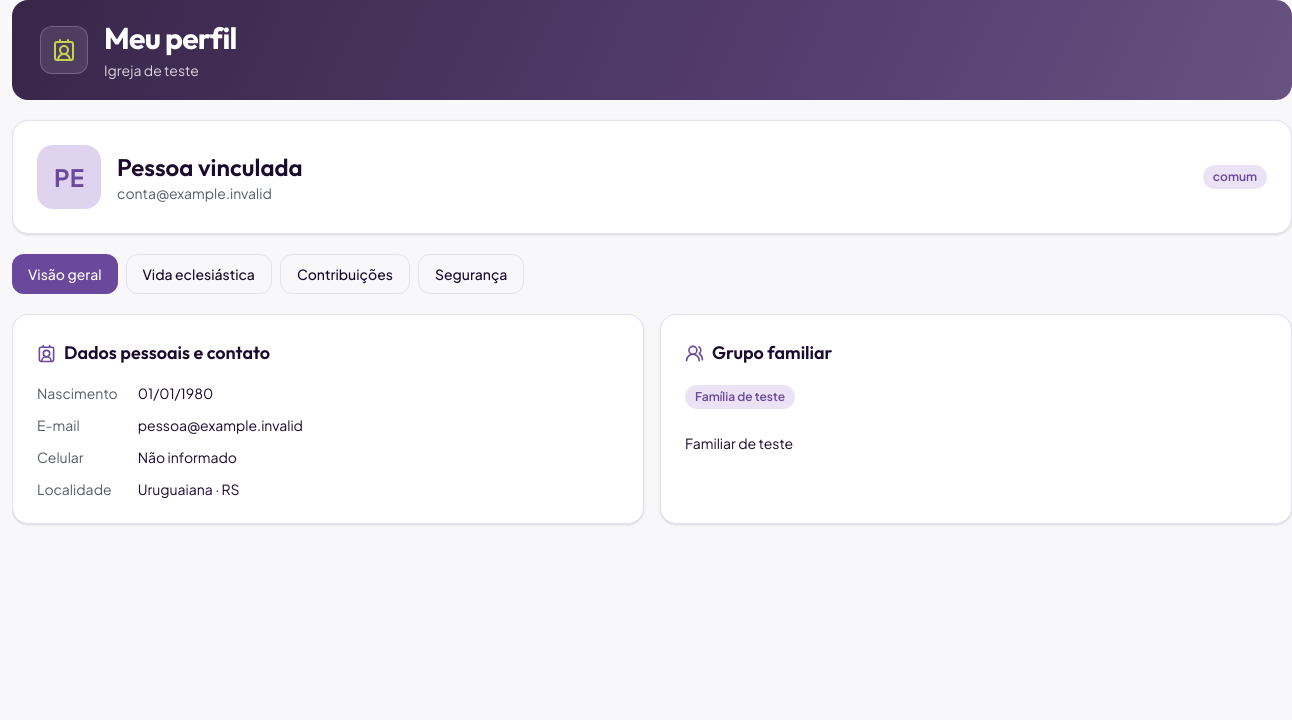
Test: abre o perfil completo e a segurança na rota /perfil para COMUM
This screenshot has width=1292, height=720.
Expected: the heading "Meu perfil" is shown, [104,20,236,56]
Expected: the heading "Pessoa vinculada" is shown, [117,151,303,183]
Click the button "Vida eclesiástica" at (199, 274), box [126,254,272,294]
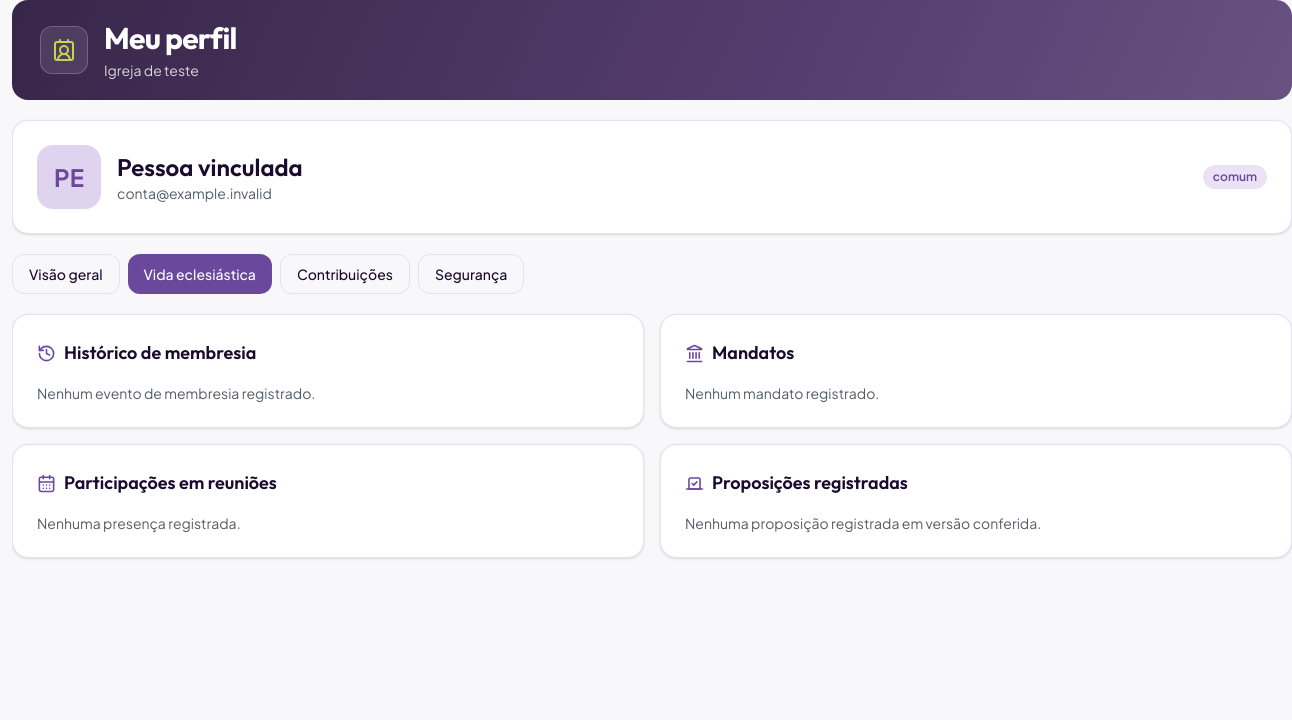
Expected: the heading "Histórico de membresia" is shown, [37,341,256,364]
Expected: the heading "Mandatos" is shown, [685,341,794,364]
Click the button "Contribuições" at (345, 274), box [280,254,410,294]
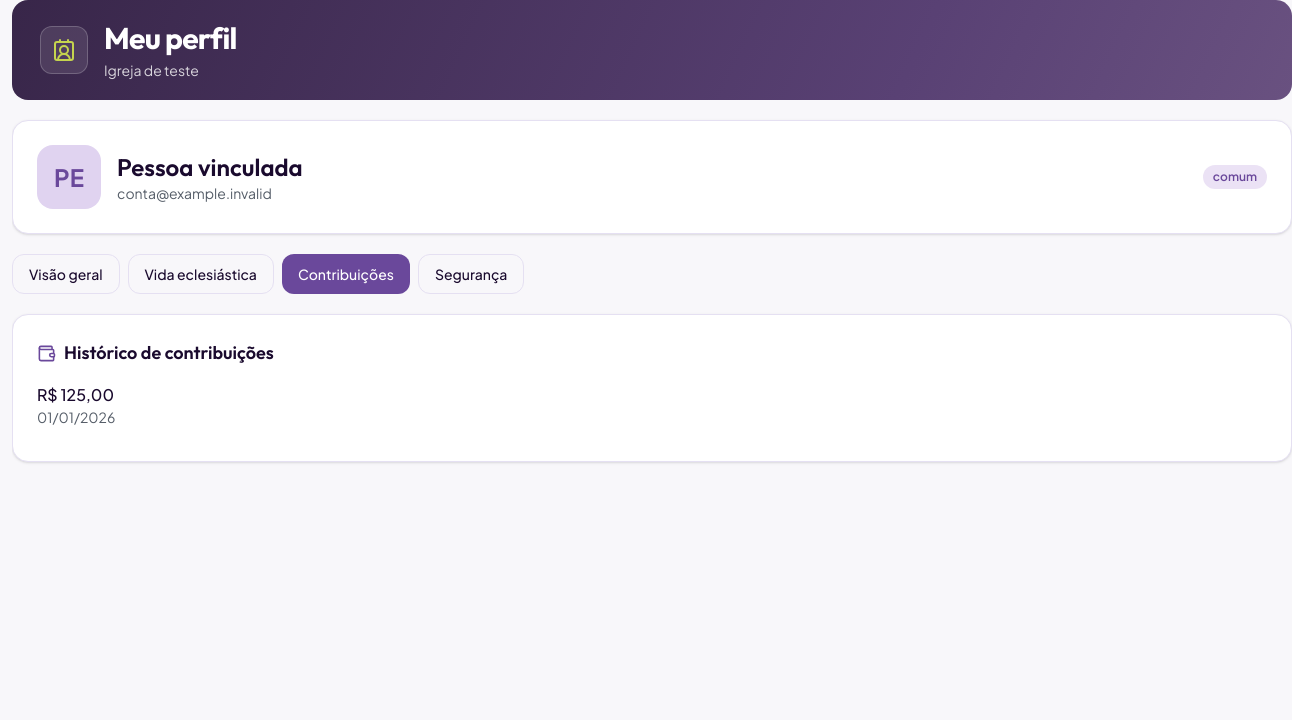
Expected: the text "R$ 125,00" is shown, [37,384,114,405]
Click the button "Segurança" at (471, 274), box [418,254,524,294]
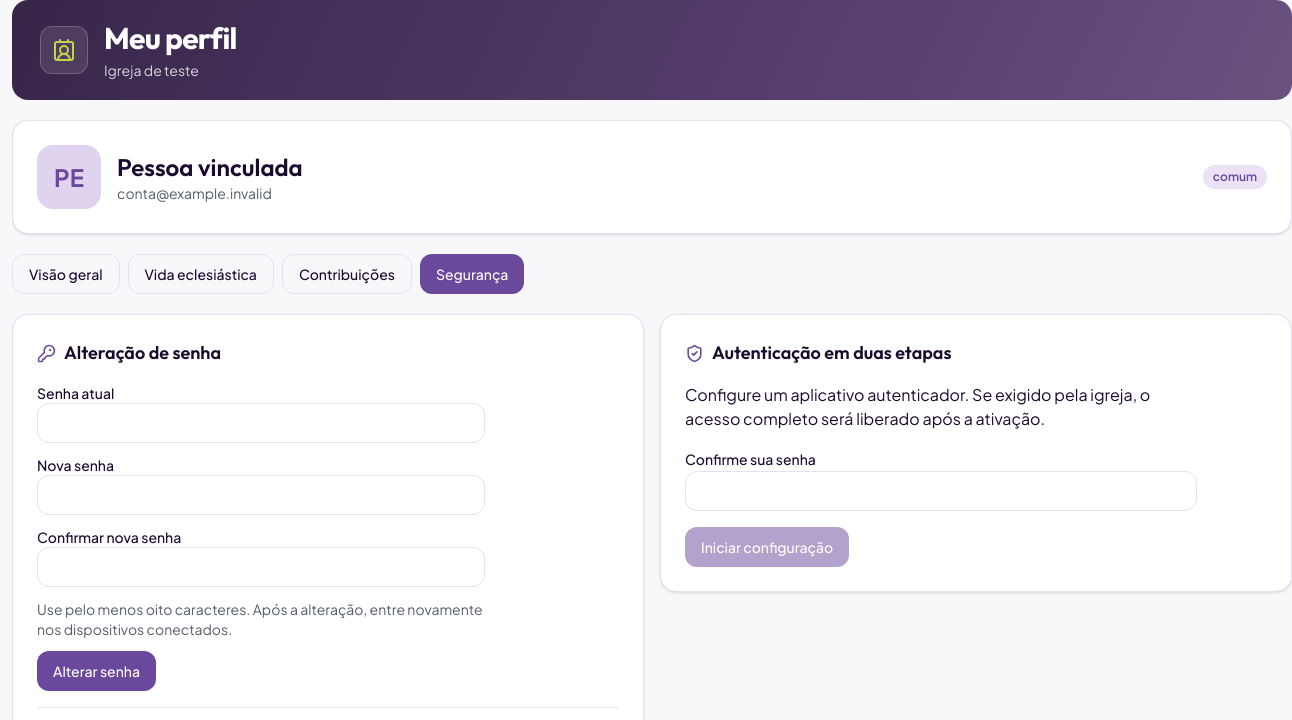
Expected: the button "Alterar senha" is shown, [37,651,156,691]
Expected: the heading "Autenticação em duas etapas" is shown, [685,341,951,364]
Expected: the button "Iniciar configuração" is shown, [685,527,849,567]
